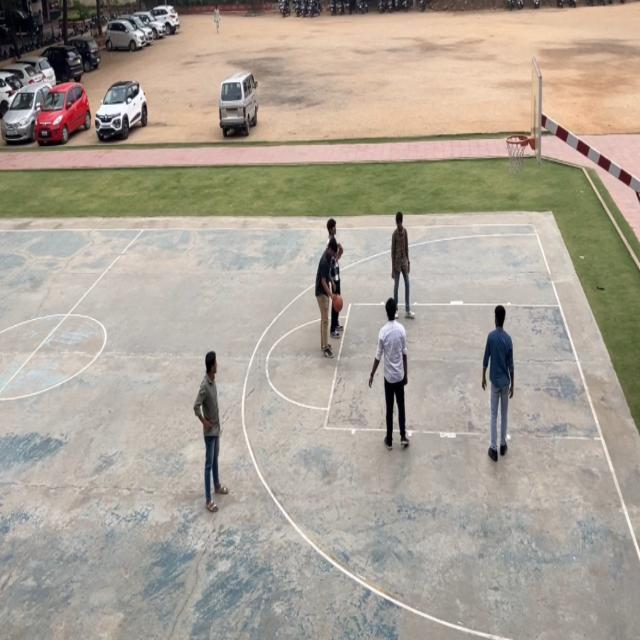basketball: (332, 293, 345, 312)
hoop: (504, 130, 530, 179)
